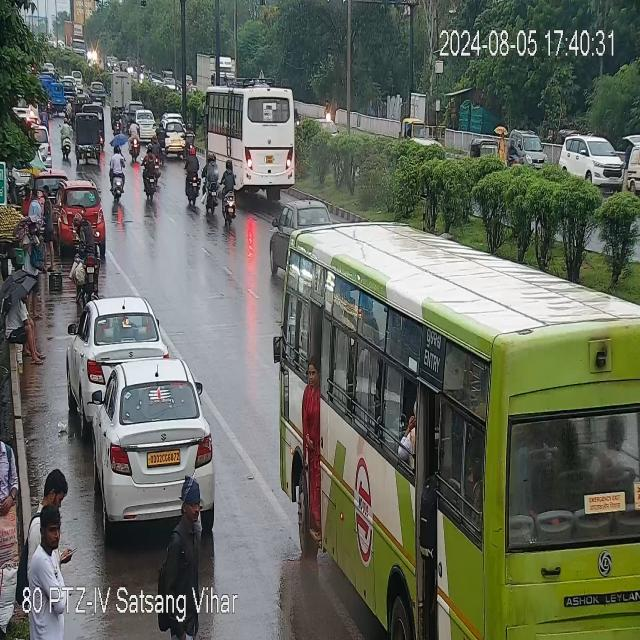2-wheelers: (70, 211, 96, 295), (217, 159, 238, 223), (140, 139, 161, 198), (202, 156, 221, 220), (182, 147, 202, 207), (142, 133, 166, 179), (108, 149, 126, 200), (129, 120, 144, 162), (60, 113, 70, 156), (112, 108, 122, 134), (158, 120, 165, 156), (187, 122, 195, 144)
auto: (74, 109, 106, 164), (399, 118, 440, 142), (48, 81, 64, 113)
bus: (277, 201, 640, 577), (203, 82, 301, 206)
car: (87, 362, 213, 530), (72, 294, 161, 402), (558, 134, 621, 183), (60, 182, 106, 226), (270, 204, 293, 274), (509, 129, 546, 164), (66, 72, 105, 105), (165, 113, 184, 161), (133, 109, 156, 136)
pedestrian: (0, 432, 71, 640), (169, 481, 211, 595), (23, 188, 60, 270), (6, 291, 43, 364)
truck: (106, 72, 133, 110)
